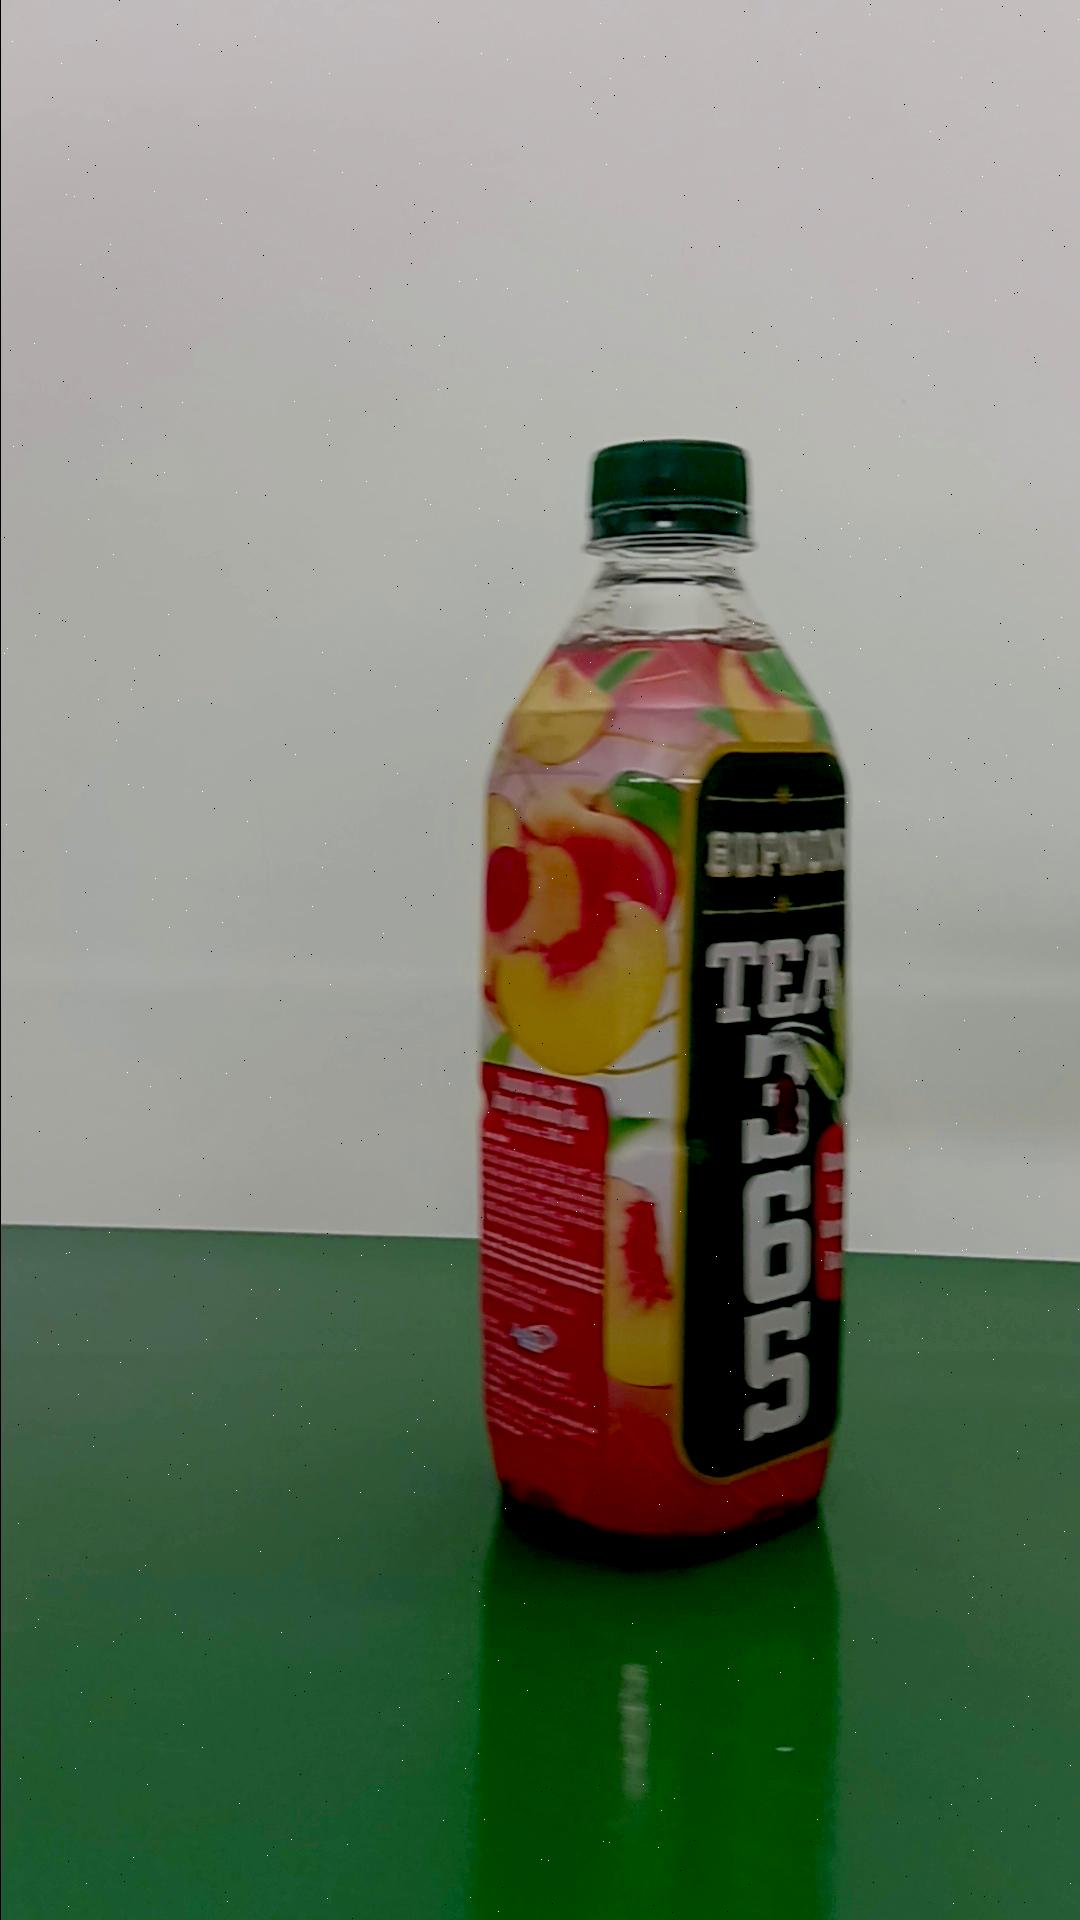loi rach va lap chai: (476, 429, 848, 1564)
